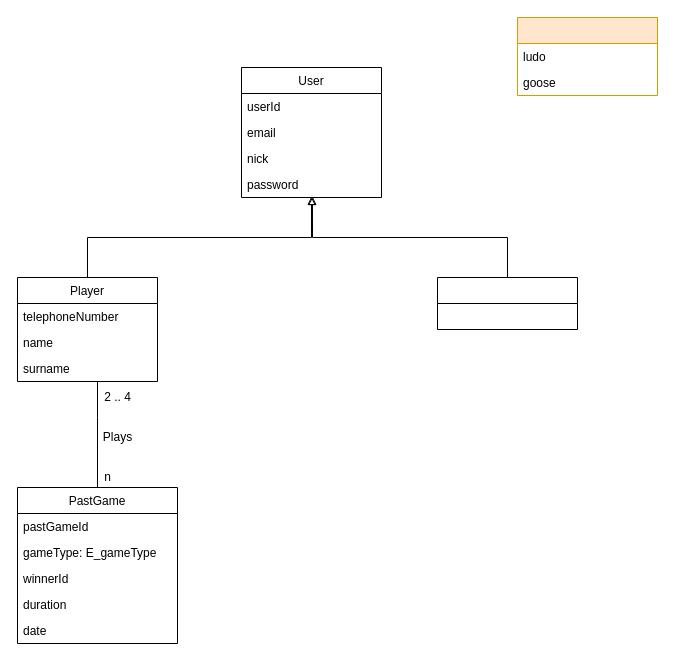
The diagram is 675 pixels wide and 664 high, and some of its shapes have lost their labels. The shapes that lost their labels are listed below. From the top down, each one's box as (x1, y1, x2, y2) in pixels, then its label:
(516, 16, 658, 96): E_gameType
(436, 276, 578, 330): Admin
